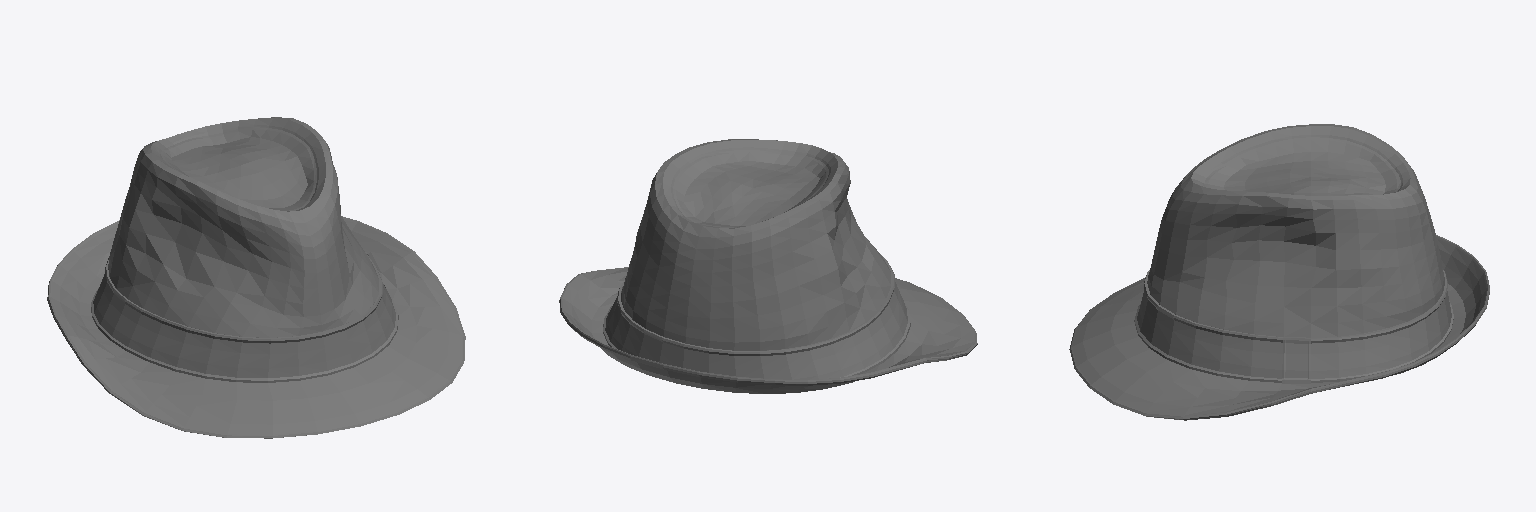
The picture shows the model from 3 angles: view 1: azimuth 30°, elevation 25°; view 2: azimuth 150°, elevation 25°; view 3: azimuth 270°, elevation 25°; orthographic projection.
Visible parts, largest first — view 1: Hat_, Brimmed_hat; view 2: Hat_, Brimmed_hat; view 3: Hat_, Brimmed_hat.
Boxes of the visible parts, box(x1,y1,x2,y2) form: Hat_: box(47, 117, 465, 438); Brimmed_hat: box(91, 252, 398, 382); Hat_: box(559, 139, 977, 393); Brimmed_hat: box(603, 254, 910, 379); Hat_: box(1069, 124, 1489, 420); Brimmed_hat: box(1134, 270, 1453, 383).
Size of the model in its own units: 31.37 by 16.07 by 32.29.